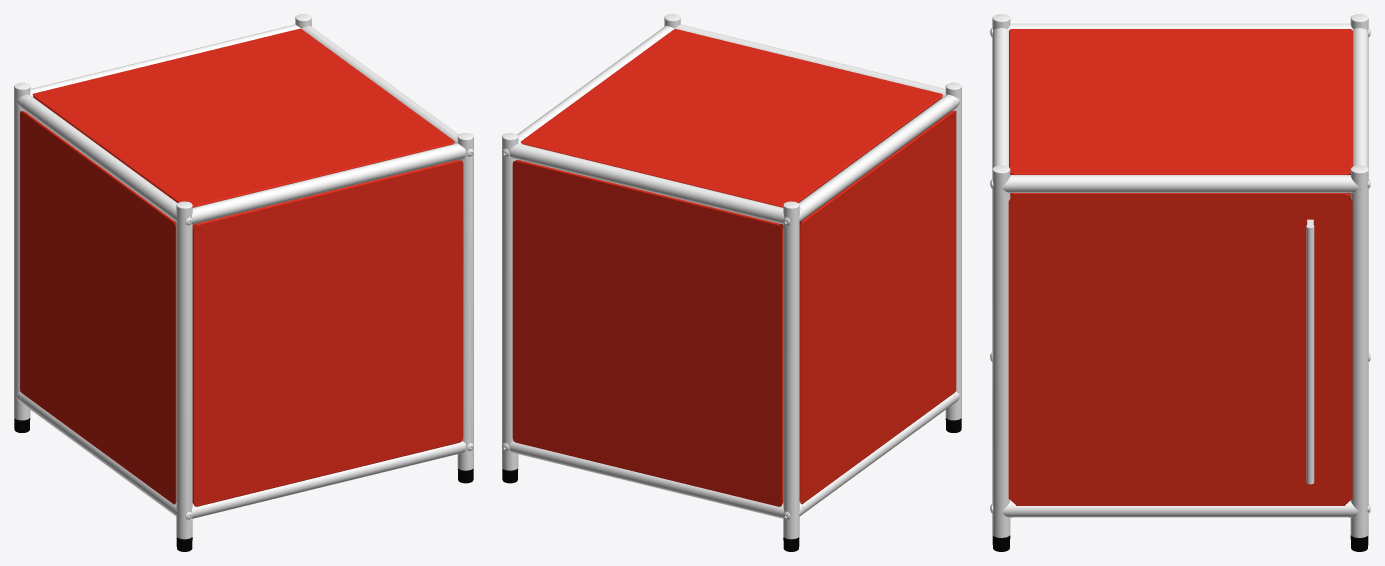
Rendered from 40x40x40-2-1-red_optimized_optimized.glb.
3 views of the same model, side by side, from view 1: azimuth 30°, elevation 25°; view 2: azimuth 150°, elevation 25°; view 3: azimuth 270°, elevation 25° (orthographic). The views are drawn at different scales.
Parts seen in each view (by area): view 1: 直角鐵板-40x40-5 - 零件, 反-鐵管-40-354..4-1 - 零件, 圓形腳+調整器-1 - 零件; view 2: 直角鐵板-40x40-5 - 零件, 反-鐵管-40-354..4-1 - 零件, 圓形腳+調整器-1 - 零件; view 3: 直角鐵板-40x40-5 - 零件, 反-鐵管-40-354..4-1 - 零件, 圓形腳+調整器-1 - 零件.
Part boxes in pixels (x1,y1,x2,y2): 直角鐵板-40x40-5 - 零件: (20,28,463,506); 反-鐵管-40-354..4-1 - 零件: (14,14,473,539); 圓形腳+調整器-1 - 零件: (14,418,473,551); 直角鐵板-40x40-5 - 零件: (512,29,956,506); 反-鐵管-40-354..4-1 - 零件: (502,14,961,539); 圓形腳+調整器-1 - 零件: (502,418,961,551); 直角鐵板-40x40-5 - 零件: (1008,29,1352,505); 反-鐵管-40-354..4-1 - 零件: (990,14,1370,537); 圓形腳+調整器-1 - 零件: (992,535,1368,551).
Size of the model in its own units: 0.4203 by 0.4453 by 0.4035.
